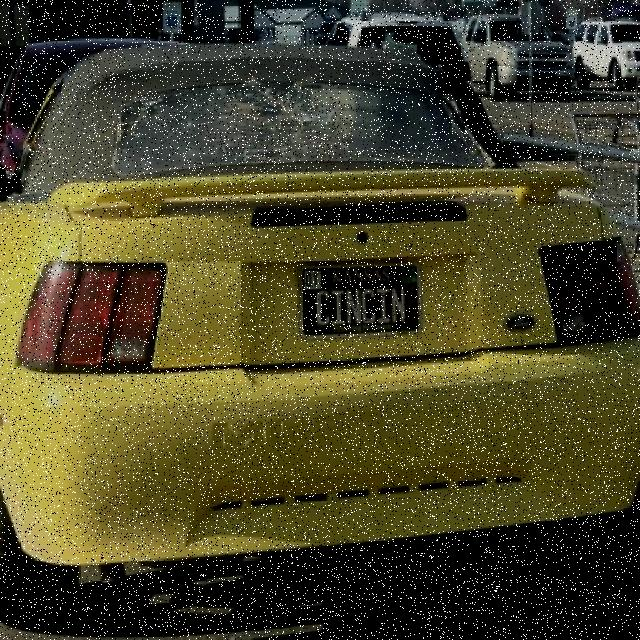licenseplate: (298, 263, 423, 342)
